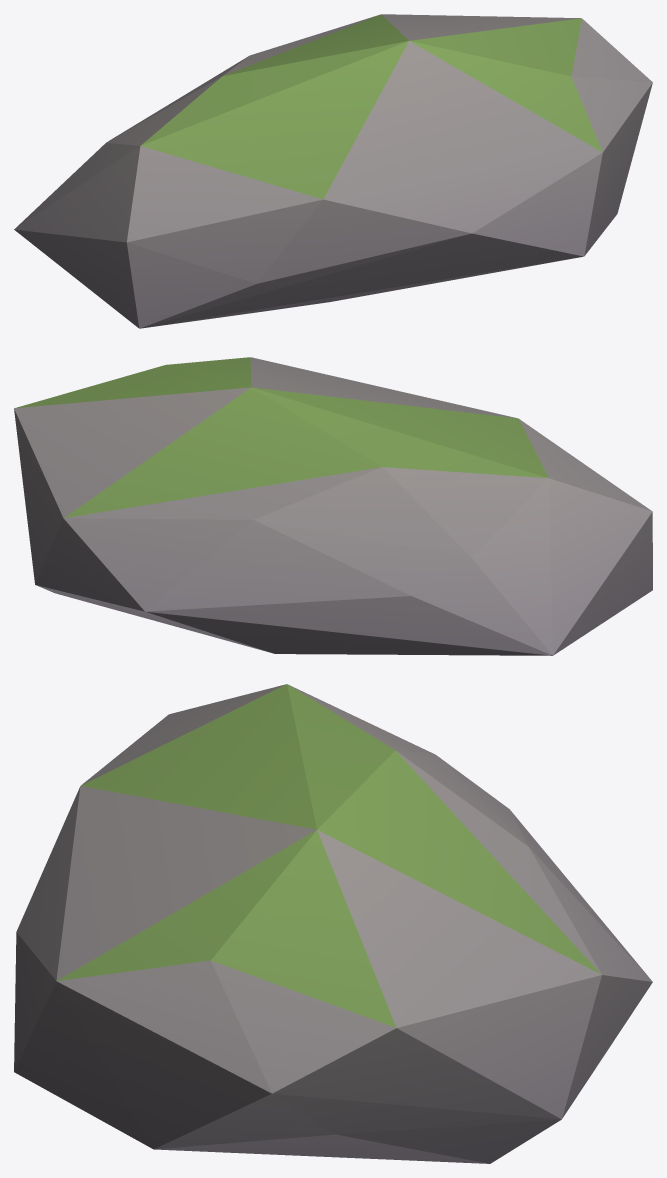
The model's file is rock_b.glb.
3 renders of one model, top to bottom at view 1: azimuth 30°, elevation 25°; view 2: azimuth 150°, elevation 25°; view 3: azimuth 270°, elevation 25°, orthographic. The views are drawn at different scales.
Visible parts, largest first — view 1: rock_b; view 2: rock_b; view 3: rock_b.
Part boxes in pixels (x1=…): rock_b: x1=14, y1=14, x2=652, y2=328; rock_b: x1=14, y1=357, x2=652, y2=655; rock_b: x1=14, y1=684, x2=652, y2=1163.
Bounding box in the file's own units: 1.31 × 0.4047 × 0.937.
